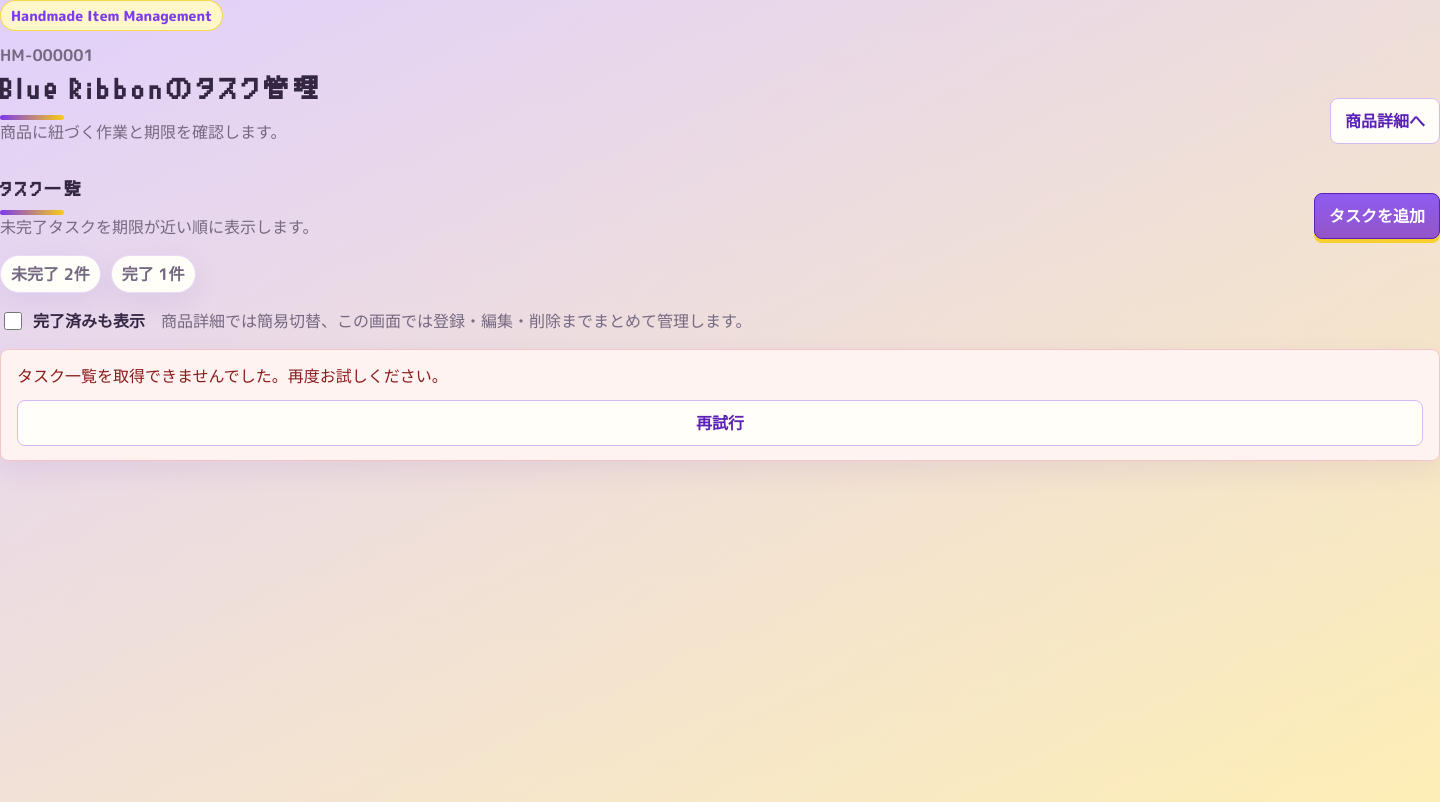
Test: ProductTaskManagementPage › shows a retry action when task loading fails
Expected: the text "タスク一覧を取得できませんでした。再度お試しください。" is shown, [17,365,448,387]
Click the button "再試行".
click(720, 423)  # box [17,400,1423,446]
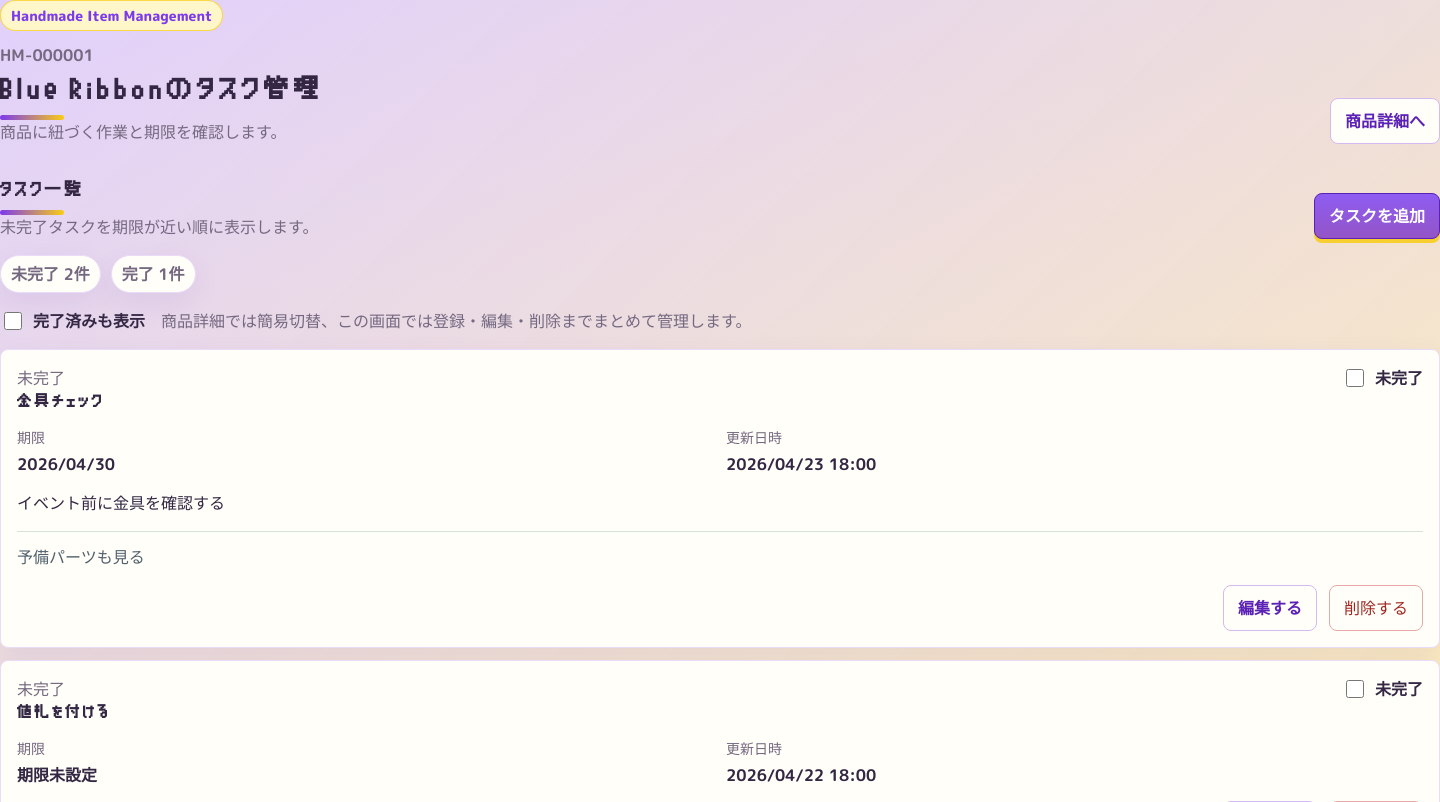
Expected: the heading "金具チェック" is shown, [17,390,105,413]
